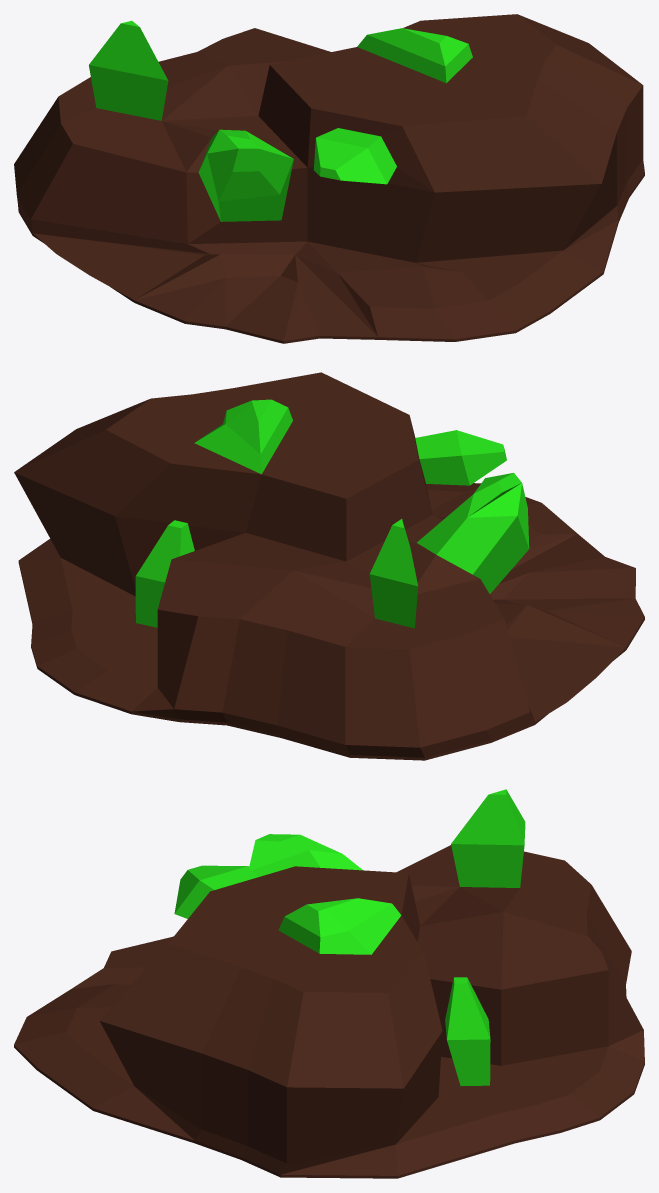
Rendered from Stone_3_Tiled_Cup.fbx.
3 renders of one model, top to bottom at view 1: azimuth 30°, elevation 25°; view 2: azimuth 150°, elevation 25°; view 3: azimuth 270°, elevation 25°, orthographic. The views are drawn at different scales.
Visible parts, largest first — view 1: Rock_3_Cup; view 2: Rock_3_Cup; view 3: Rock_3_Cup.
Part boxes in pixels (x1=…): Rock_3_Cup: x1=14, y1=14, x2=644, y2=343; Rock_3_Cup: x1=14, y1=372, x2=644, y2=760; Rock_3_Cup: x1=14, y1=789, x2=644, y2=1178.
Bounding box in the file's own units: 1648 × 517 × 1651.
